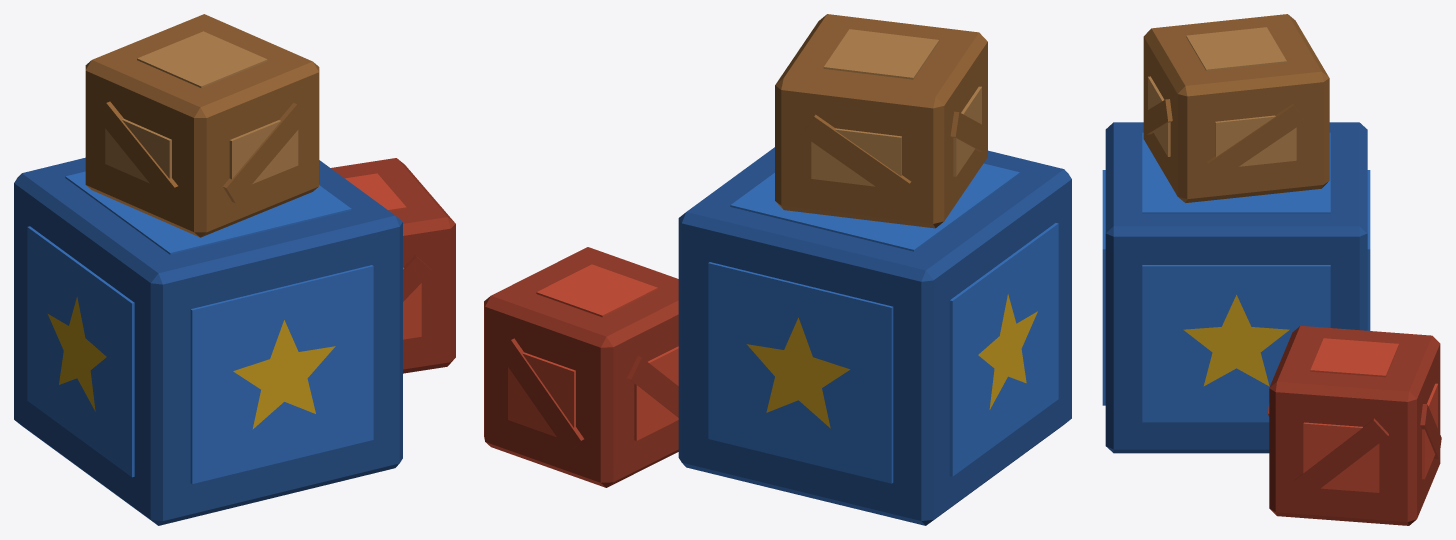
The model's file is toy-prop2.glb.
3 renders of one model, left to right at view 1: azimuth 30°, elevation 25°; view 2: azimuth 150°, elevation 25°; view 3: azimuth 270°, elevation 25°, orthographic. The views are drawn at different scales.
Visible parts, largest first — view 1: toy-prop2; view 2: toy-prop2; view 3: toy-prop2.
Part boxes in pixels (x1=…): toy-prop2: x1=14, y1=14, x2=455, y2=525; toy-prop2: x1=484, y1=14, x2=1071, y2=525; toy-prop2: x1=1102, y1=14, x2=1441, y2=525.
Bounding box in the file's own units: 1.38 × 1.22 × 1.07.
